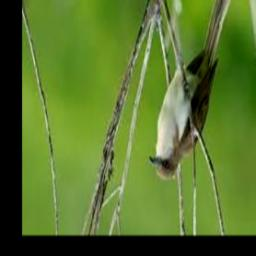Cuckoo: (149, 0, 233, 179)
